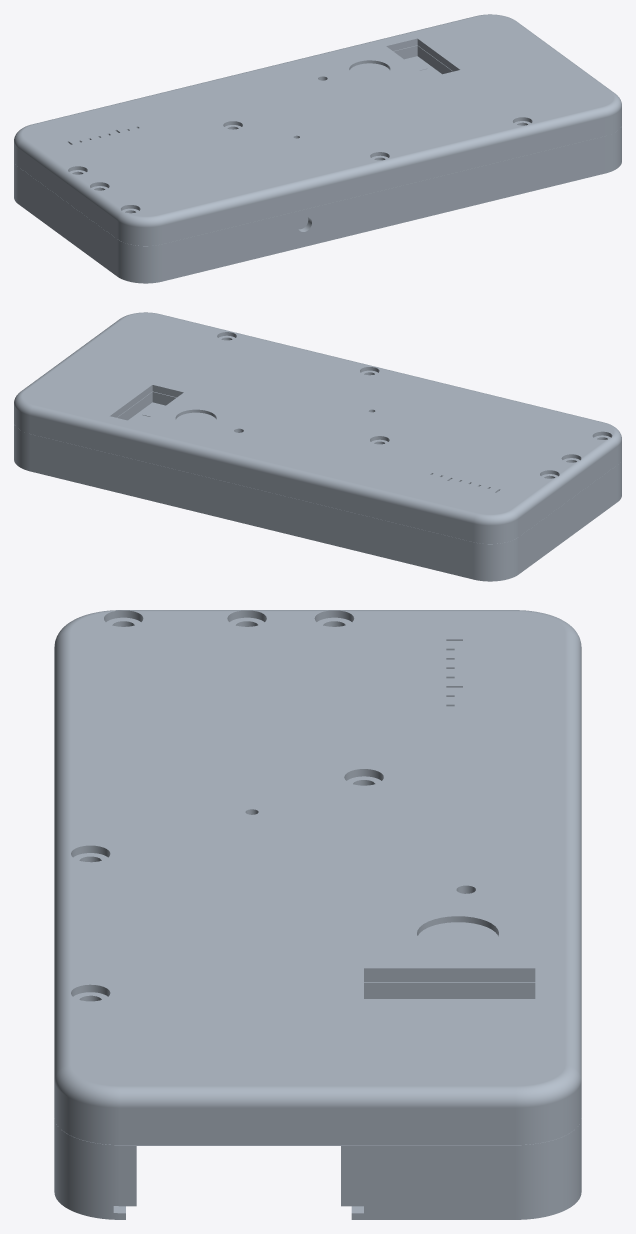
File: OP-70_assembly.glb
3 renders of one model, top to bottom at view 1: azimuth 30°, elevation 25°; view 2: azimuth 150°, elevation 25°; view 3: azimuth 270°, elevation 25°, orthographic. The views are drawn at different scales.
Visible parts, largest first — view 1: top, bottom, charge_gasket; view 2: top, bottom, charge_gasket; view 3: top, bottom, charge_gasket.
Part boxes in pixels (x1,y1,x2,y2): top: [14, 14, 621, 245]; bottom: [14, 125, 621, 283]; charge_gasket: [393, 45, 452, 74]; top: [14, 312, 621, 543]; bottom: [14, 423, 621, 581]; charge_gasket: [117, 391, 176, 420]; top: [54, 610, 581, 1144]; bottom: [54, 1118, 581, 1219]; charge_gasket: [364, 982, 535, 998].
Bounding box in the file's own units: 0.0702 × 0.0085 × 0.032.
